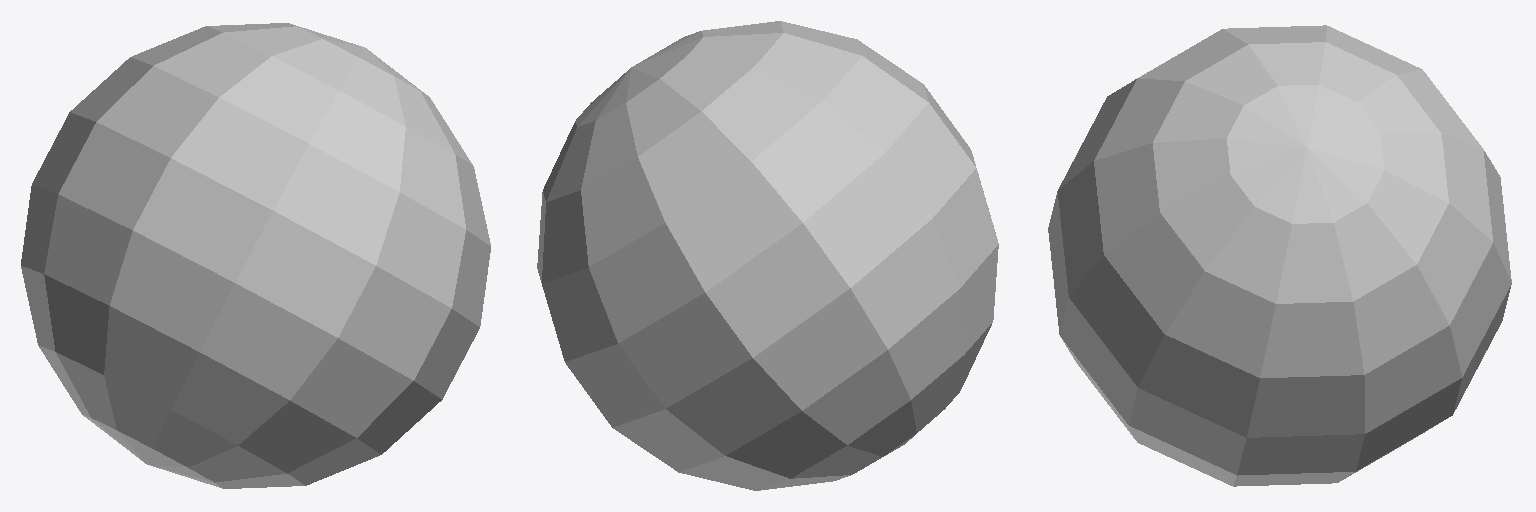
3 views of the same model, side by side, from view 1: azimuth 30°, elevation 25°; view 2: azimuth 150°, elevation 25°; view 3: azimuth 270°, elevation 25° (orthographic).
Parts seen in each view (by area): view 1: bubbles10_group[number redacted]; view 2: bubbles10_group[number redacted]; view 3: bubbles10_group[number redacted].
Boxes of the visible parts, x1,y1,x2,y2 form: bubbles10_group[number redacted]: [21, 23, 490, 488]; bubbles10_group[number redacted]: [537, 21, 998, 490]; bubbles10_group[number redacted]: [1048, 25, 1511, 486].
Size of the model in its own units: 0.3492 by 0.3495 by 0.3473.